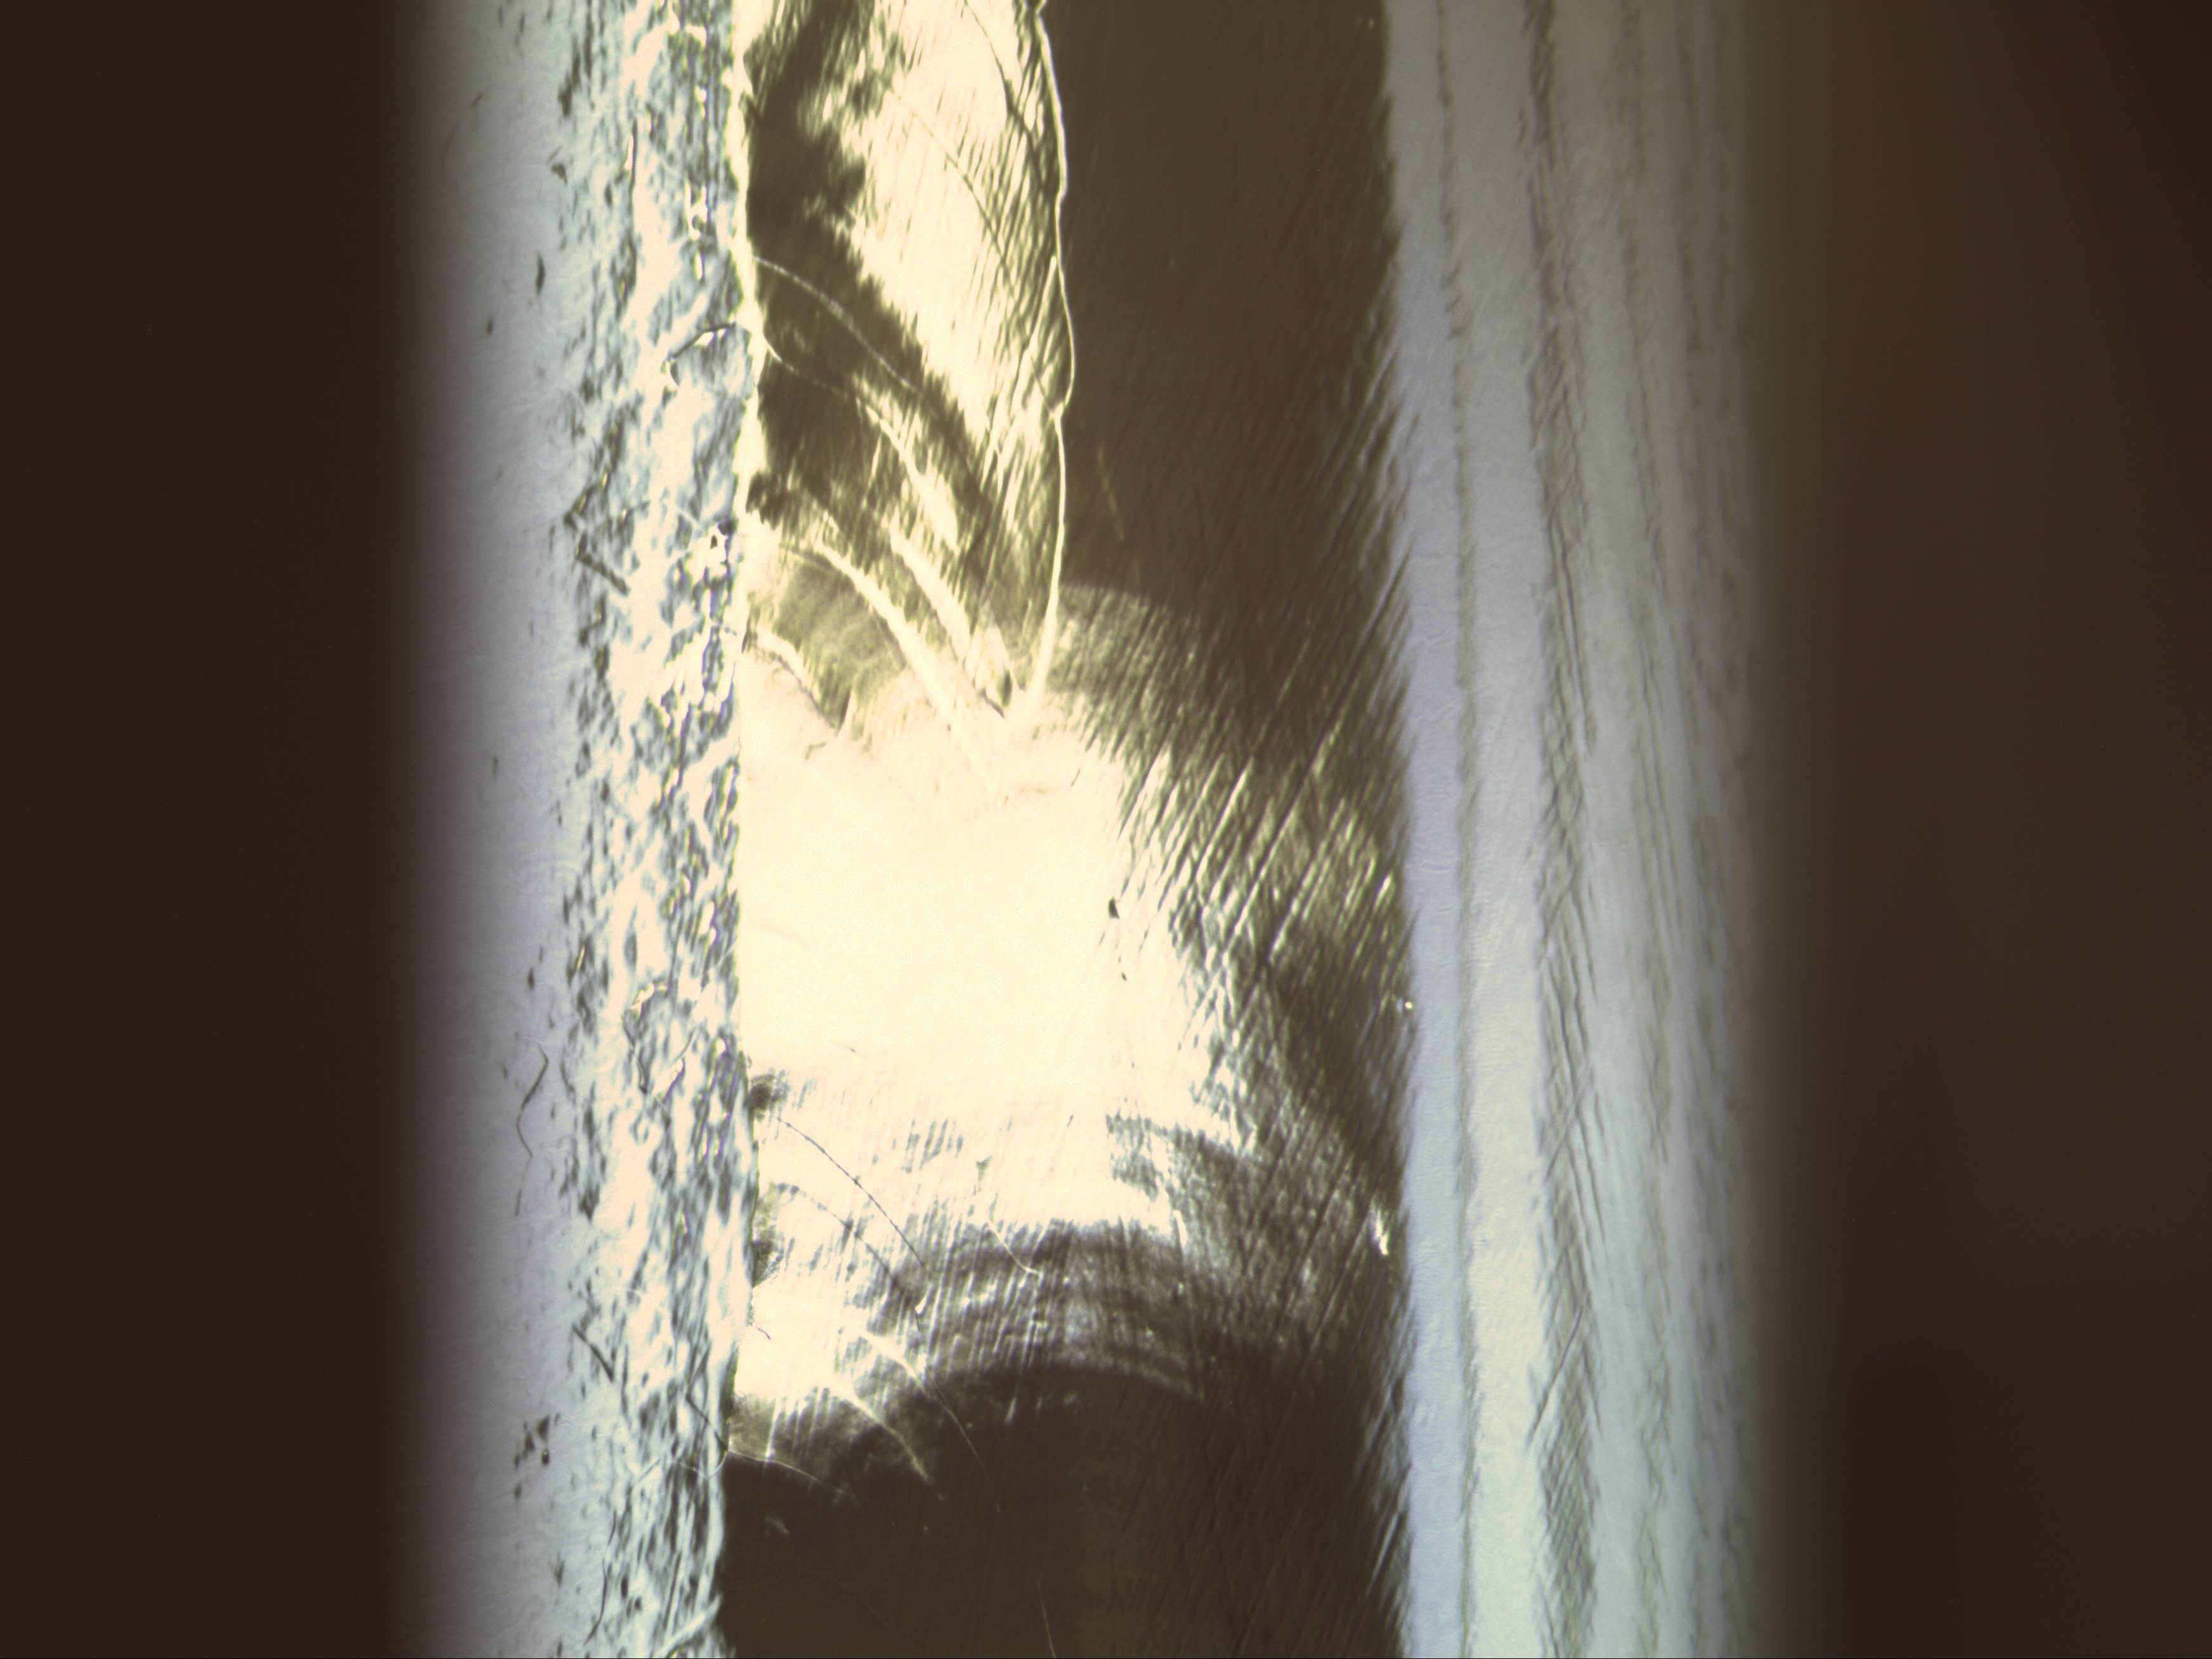defect: (1099, 885, 1127, 927)
